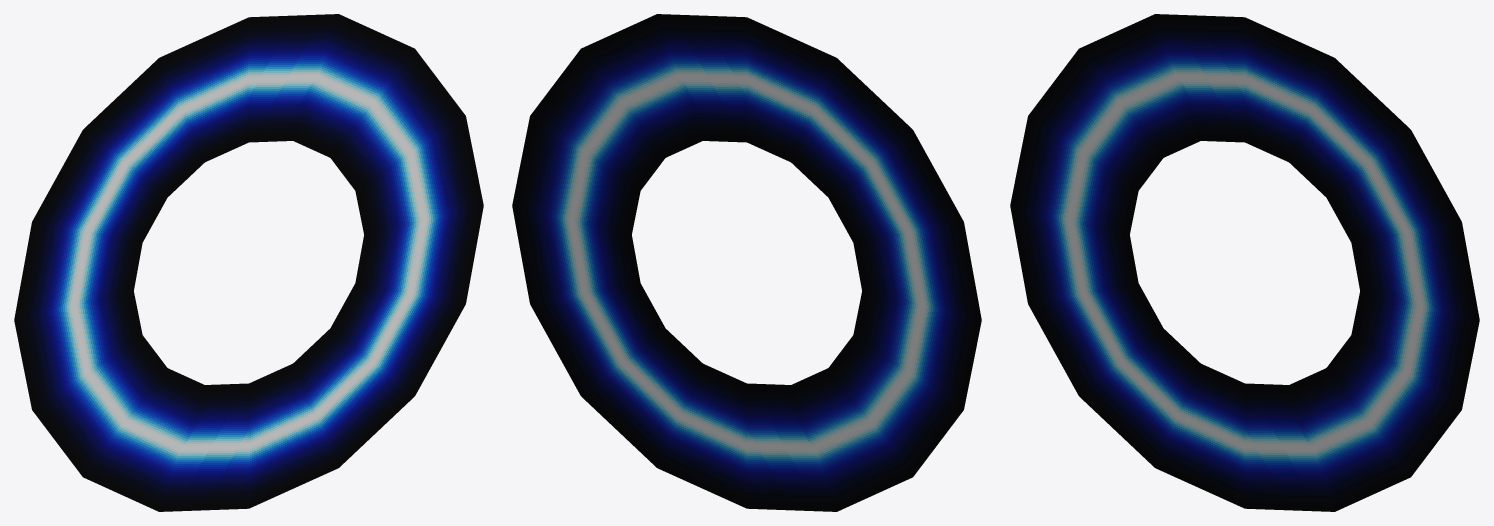
File: effect_fangyu.FBX
The picture shows the model from 3 angles, left to right: view 1: azimuth 30°, elevation 25°; view 2: azimuth 150°, elevation 25°; view 3: azimuth 330°, elevation 25°; orthographic projection.
Visible parts, largest first — view 1: effect_fangyu; view 2: effect_fangyu; view 3: effect_fangyu.
Boxes of the visible parts, x1,y1,x2,y2 form: effect_fangyu: (14,14,483,511); effect_fangyu: (512,14,981,511); effect_fangyu: (1010,14,1479,511).
Bounding box in the file's own units: 178 × 178 × 7.77e-06.
1 material, 1 textured.
